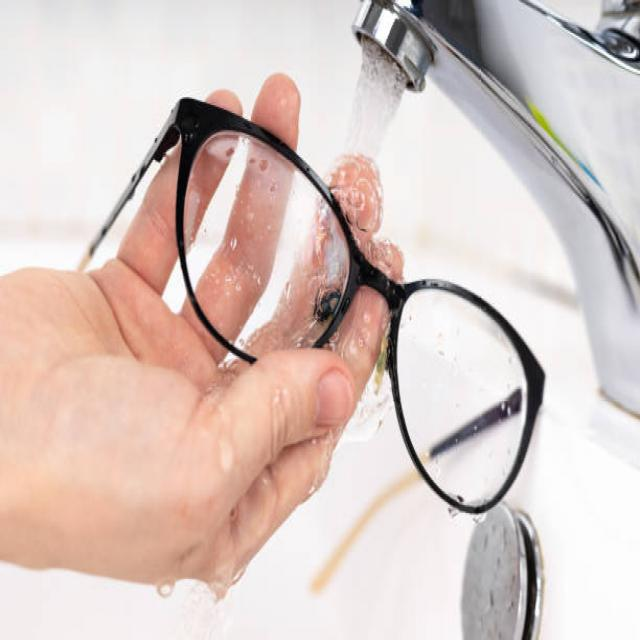glasses: (57, 47, 584, 537)
